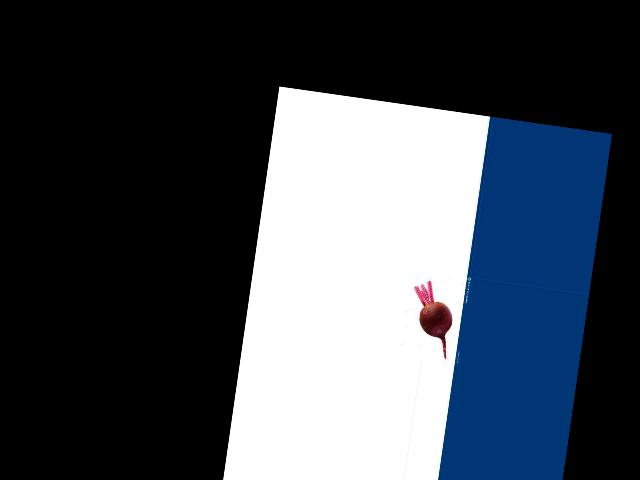beet: (405, 279, 457, 358)
